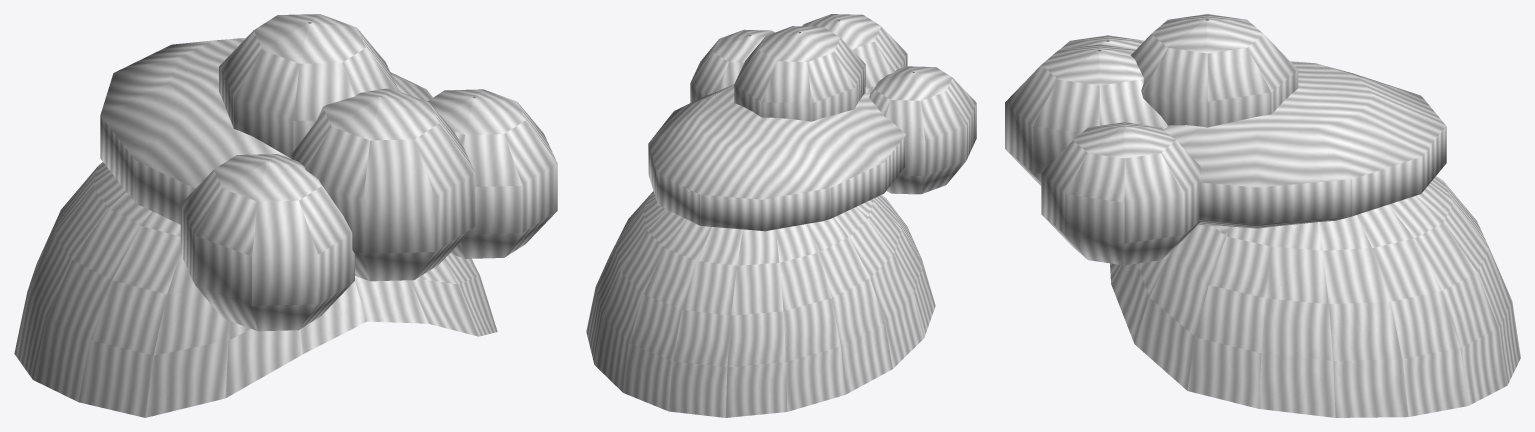
The model's file is hair_undercut.glb.
The picture shows the model from 3 angles, left to right: view 1: azimuth 30°, elevation 25°; view 2: azimuth 150°, elevation 25°; view 3: azimuth 270°, elevation 25°; orthographic projection. The views are drawn at different scales.
Parts seen in each view (by area): view 1: hair_undercut; view 2: hair_undercut; view 3: hair_undercut.
Part boxes in pixels (bbox=[...]): hair_undercut: bbox=[14, 14, 557, 417]; hair_undercut: bbox=[586, 14, 976, 417]; hair_undercut: bbox=[1005, 14, 1520, 417].
Bounding box in the file's own units: 0.2439 × 0.2249 × 0.311.
1 material, 1 textured.
